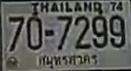0: (26, 15, 42, 49)
2: (74, 15, 90, 48)
7: (56, 15, 72, 49), (8, 15, 23, 50)
9: (91, 15, 107, 47), (109, 14, 124, 47)
SKN: (36, 51, 100, 67)
